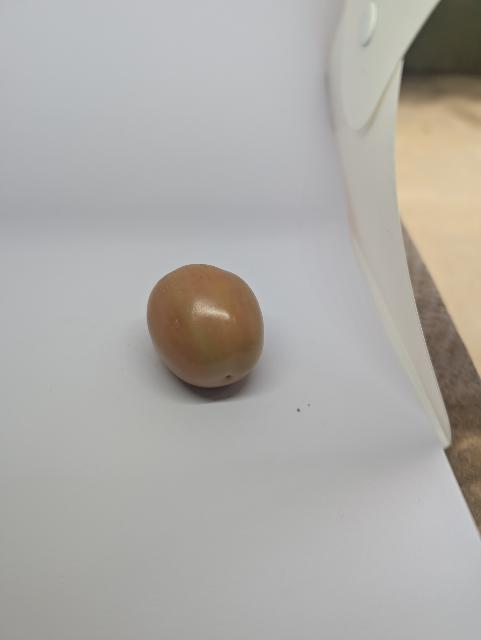turning: (132, 260, 282, 402)
